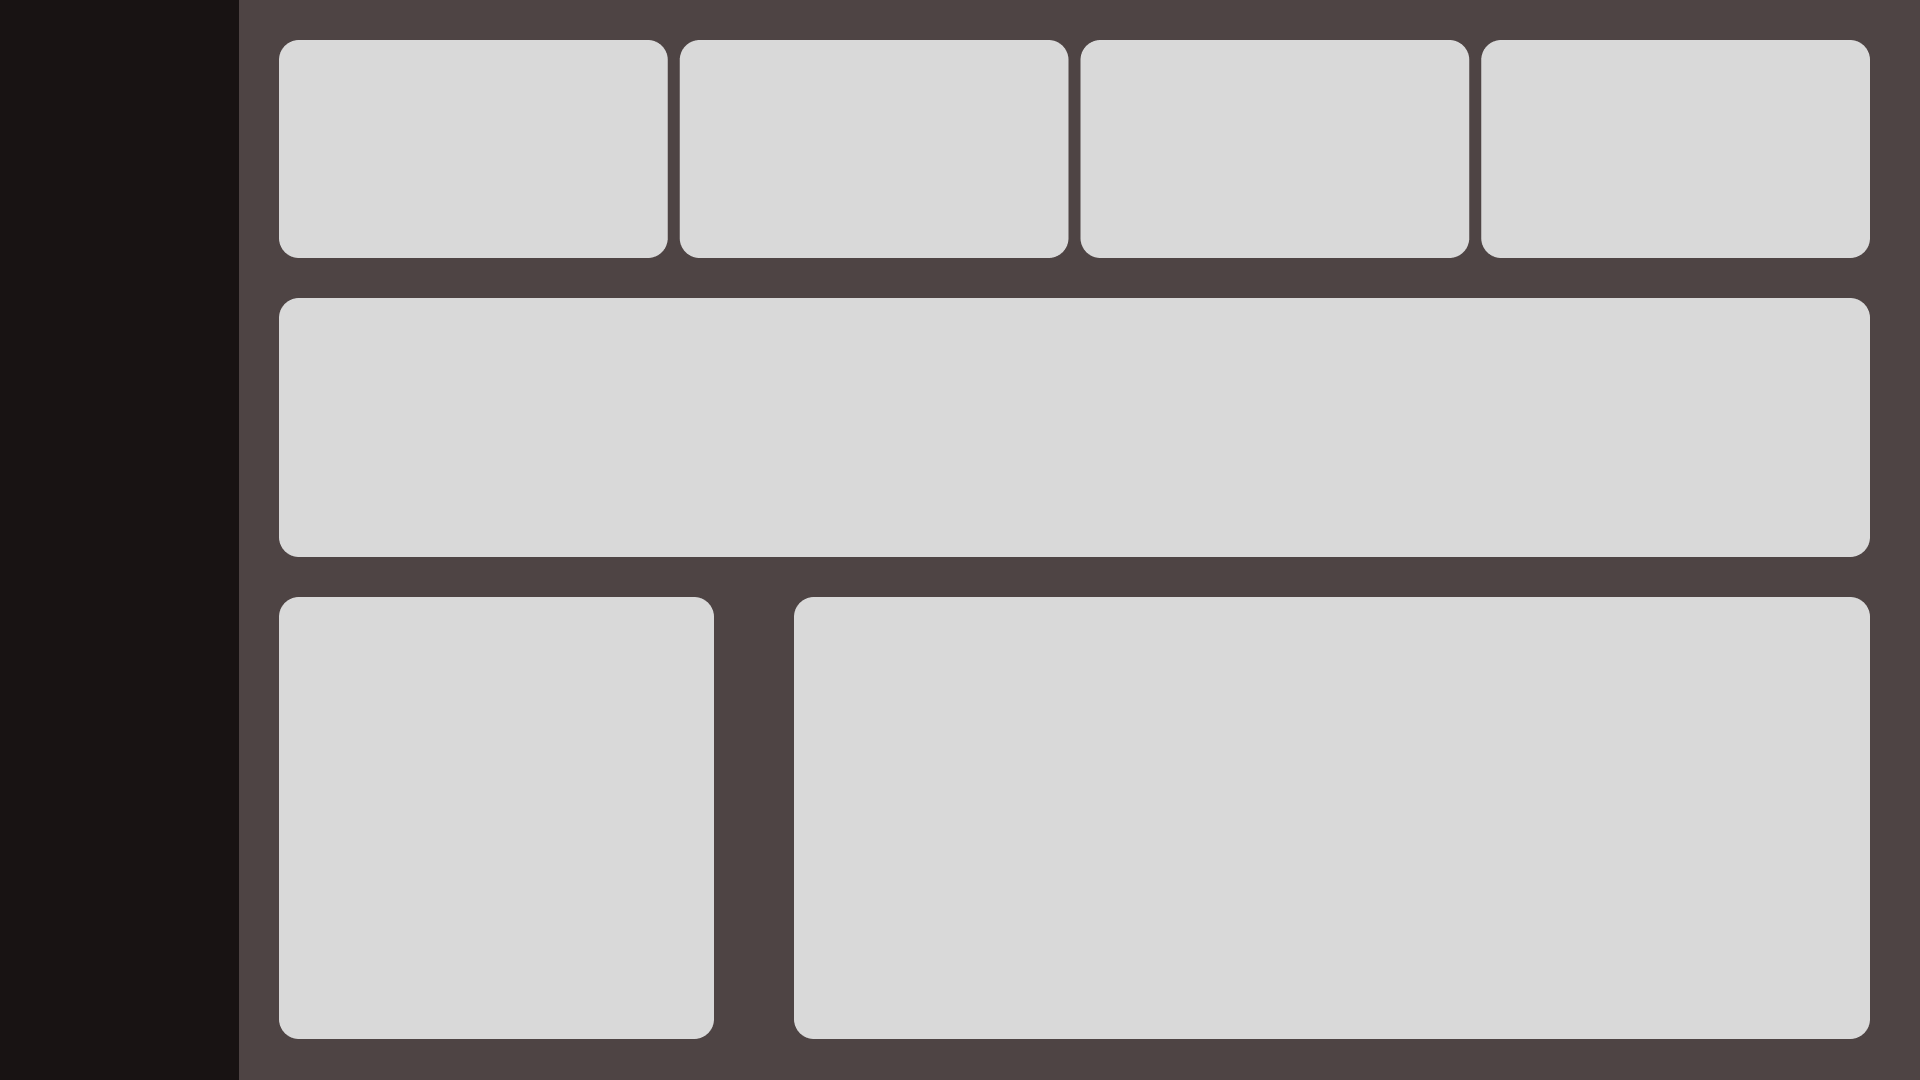

Layout of this report page (visuals, bound fields, positions):
{"tool":"powerbi","page":{"name":"Página 1","canvas":[1920,1080],"ordinal":0},"visuals":[{"type":"tableEx","fields":{"Values":["public volume.crypto","public volume.supply","public volume.symbol","public volume.market_cap_usd","public cadastro.variacao_24h","public volume.volume_24h","public volume.price_usd"]},"box":[292.9,298.6,1562.9,241.4],"z":0},{"type":"tableEx","fields":{"Values":["public historicocriptos.crypto","public historicocriptos.date.Variation.Hierarquia de datas.Ano","public historicocriptos.price_usd"]},"box":[292.9,607.1,412.9,418.6],"z":1000},{"type":"slicer","fields":{"Values":["public historicocriptos.crypto"]},"box":[17.1,170,197.1,54.3],"z":2000},{"type":"card","fields":{"Values":["Medidas.MaxValor"]},"box":[292.9,74.3,354.3,150],"z":3000},{"type":"card","fields":{"Values":["Medidas.ValorMin"]},"box":[694.3,74.3,377.1,150],"z":4000},{"type":"card","fields":{"Values":["Medidas.MaxData"]},"box":[1490,74.3,378.6,150],"z":5000},{"type":"card","fields":{"Values":["Medidas.ValorMedio"]},"box":[1094.3,74.3,382.9,150],"z":6000},{"type":"lineChart","title":"Preco Médio Bitcoin x Ethereum por Periodo","fields":{"Category":["dCalendario.Data"],"Y":["Medidas.ValorMedioBitcoin"],"Y2":["Medidas.ValorMedioEthereum"]},"box":[802.9,601.4,1065.7,430],"z":7000},{"type":"slicer","fields":{"Values":["dCalendario.Data"]},"box":[17.1,267.1,221.4,184.3],"z":8000},{"type":"actionButton","box":[45.7,514.3,140,50],"z":9000}]}

Visuals, with their boxes in screenshot pixels (x1, y1, x2, y2), scaled from the page's 1920x1080 canvas onto the 1920x1080 screenshot:
tableEx - public volume.crypto x public volume.supply: Rect(293, 299, 1856, 540)
tableEx - public historicocriptos.crypto x public historicocriptos.date.Variation.Hierarquia de datas.Ano: Rect(293, 607, 706, 1026)
slicer - public historicocriptos.crypto: Rect(17, 170, 214, 224)
card - Medidas.MaxValor: Rect(293, 74, 647, 224)
card - Medidas.ValorMin: Rect(694, 74, 1071, 224)
card - Medidas.MaxData: Rect(1490, 74, 1869, 224)
card - Medidas.ValorMedio: Rect(1094, 74, 1477, 224)
"Preco Médio Bitcoin x Ethereum por Periodo" lineChart: Rect(803, 601, 1869, 1031)
slicer - dCalendario.Data: Rect(17, 267, 238, 451)
actionButton: Rect(46, 514, 186, 564)
